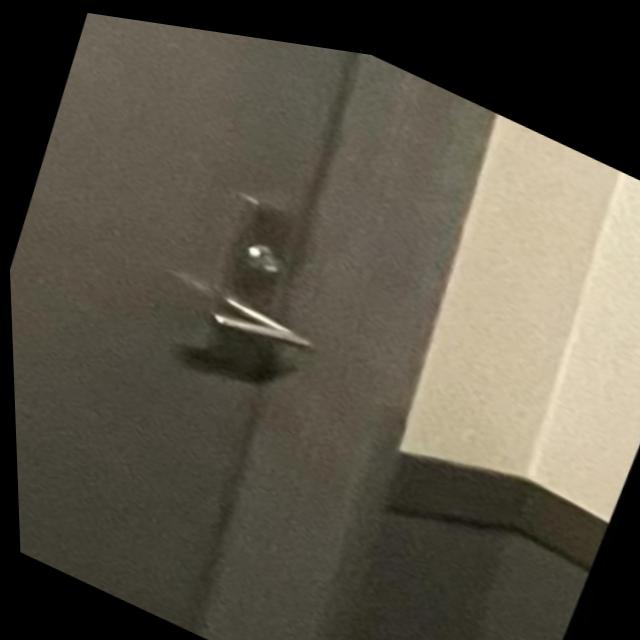door_handle: (188, 259, 352, 390)
